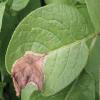Potato leaf late blight: (5, 2, 91, 97)
